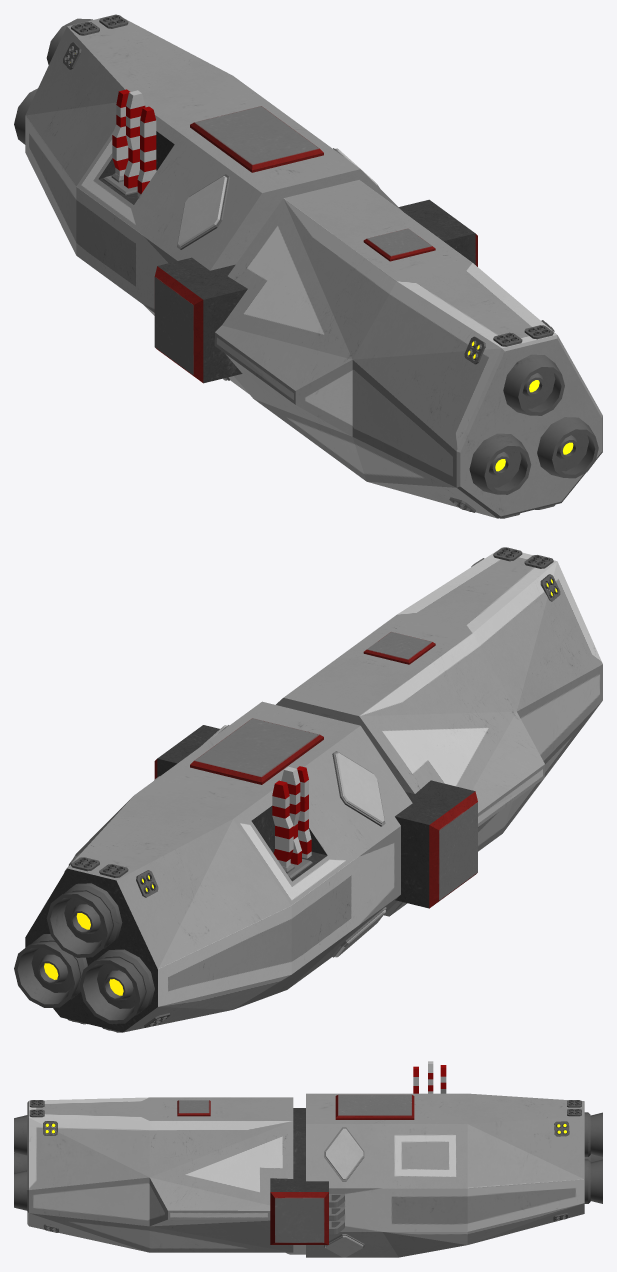
Rendered from FF_Moxella_Mesh.fbx.
3 views of the same model, one above another, from view 1: azimuth 30°, elevation 25°; view 2: azimuth 150°, elevation 25°; view 3: azimuth 270°, elevation 25° (orthographic). The views are drawn at different scales.
Visible parts, largest first — view 1: MoxBow_LOD0, MoxStern_LOD0, MoxEngines_LOD0; view 2: MoxStern_LOD0, MoxBow_LOD0, MoxEngines_LOD0; view 3: MoxBow_LOD0, MoxStern_LOD0, MoxEngines_LOD0.
Part boxes in pixels (left/top/right/bottom): MoxBow_LOD0: left=154, top=148, right=602, bottom=518; MoxStern_LOD0: left=25, top=14, right=402, bottom=393; MoxEngines_LOD0: left=14, top=14, right=598, bottom=518; MoxStern_LOD0: left=25, top=701, right=412, bottom=1032; MoxBow_LOD0: left=154, top=549, right=602, bottom=957; MoxEngines_LOD0: left=14, top=547, right=560, bottom=1032; MoxBow_LOD0: left=27, top=1097, right=364, bottom=1257; MoxStern_LOD0: left=286, top=1061, right=584, bottom=1257; MoxEngines_LOD0: left=14, top=1100, right=602, bottom=1232.
Size of what is drawn, in the model's own units: 458 by 386 by 1294.
